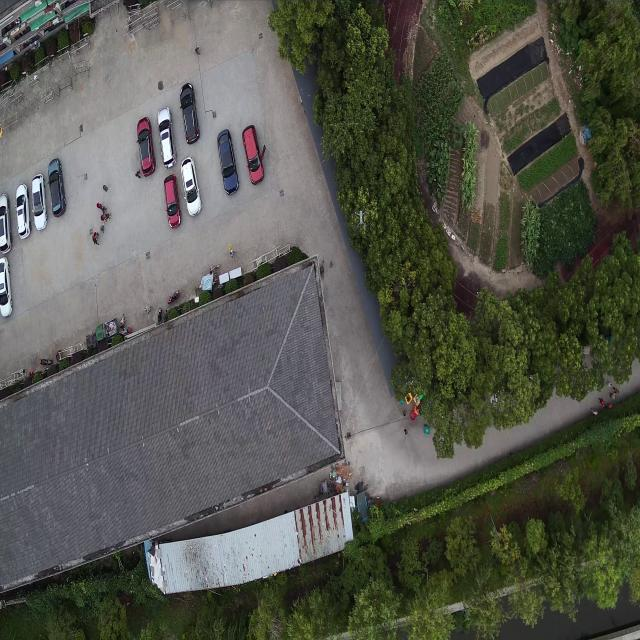UAV: (354, 210, 367, 229)
